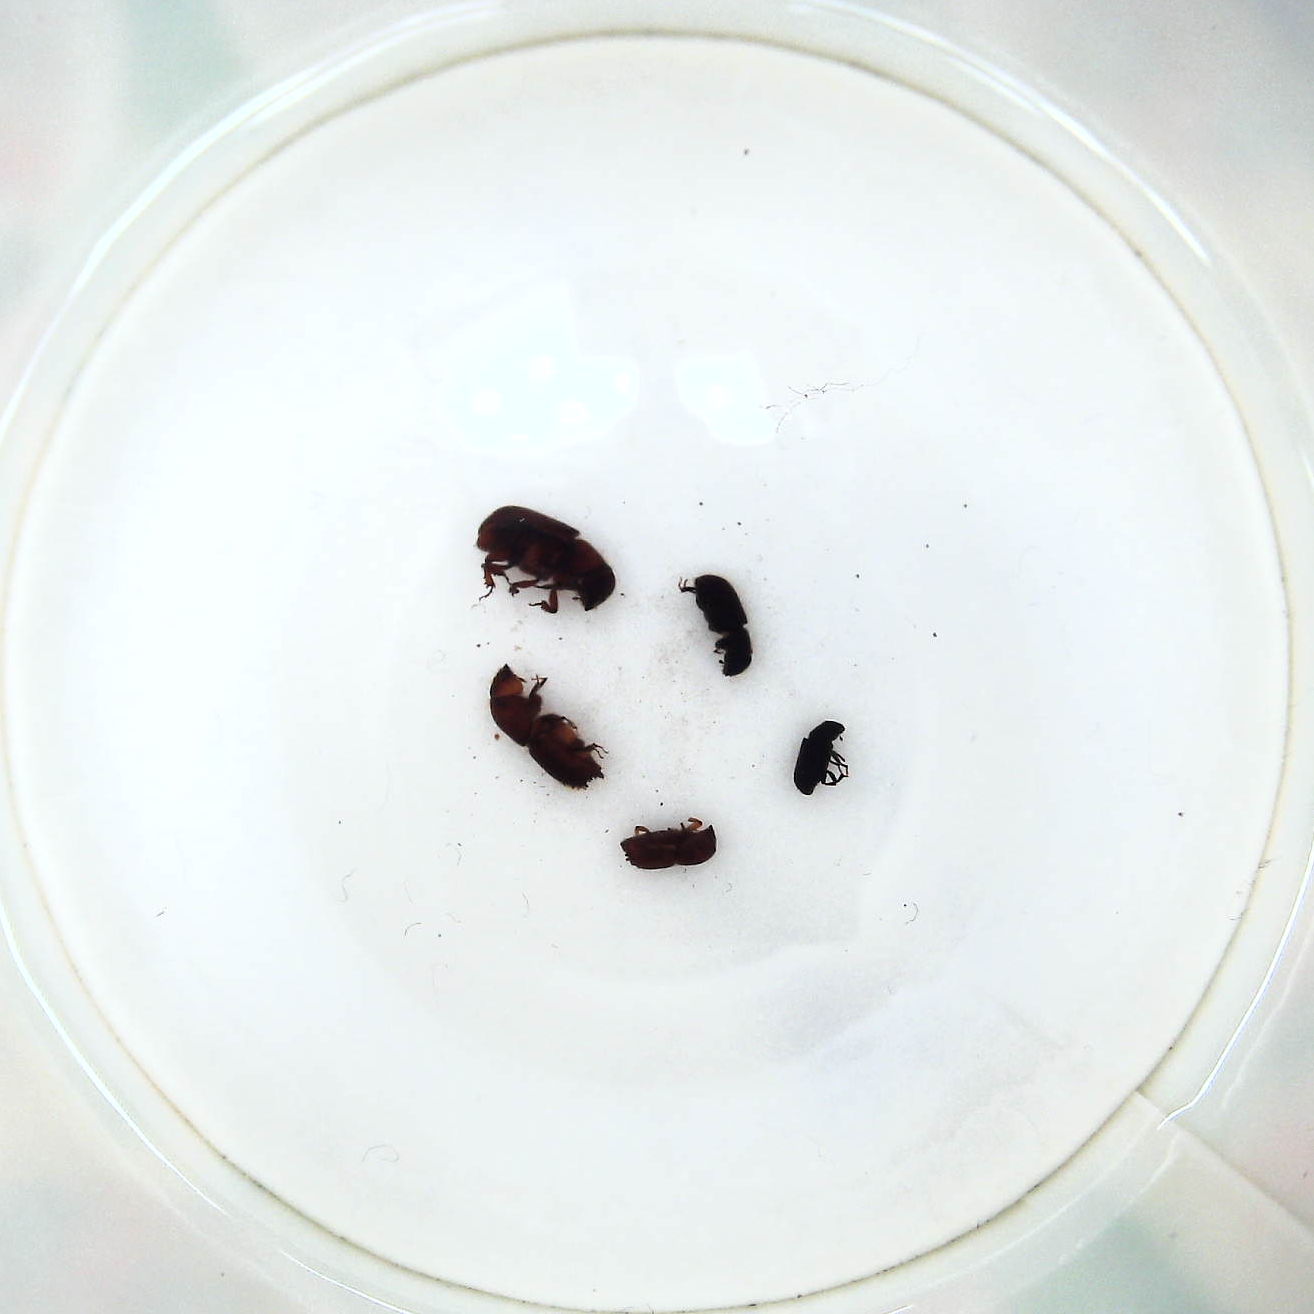Boerner: (485, 663, 610, 795)
Leconte: (470, 504, 615, 618)
armandi: (676, 568, 759, 685)
coleoptera: (791, 717, 851, 800)
linnaeus: (617, 819, 726, 878)
